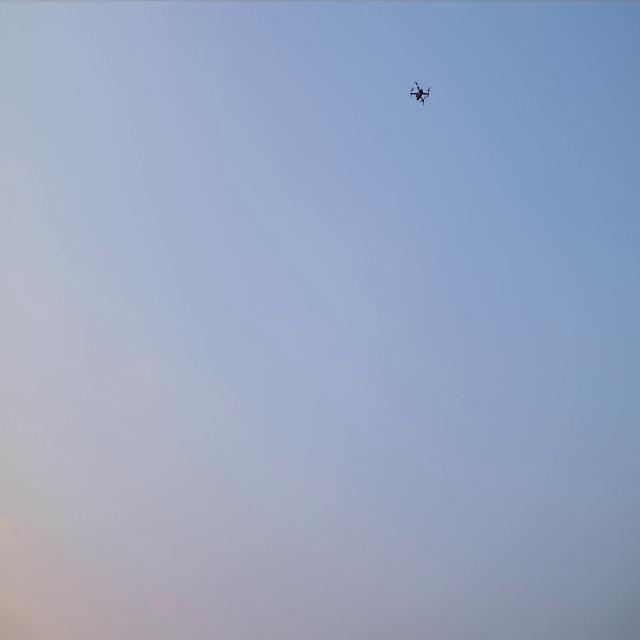UAV: (411, 83, 429, 105)
